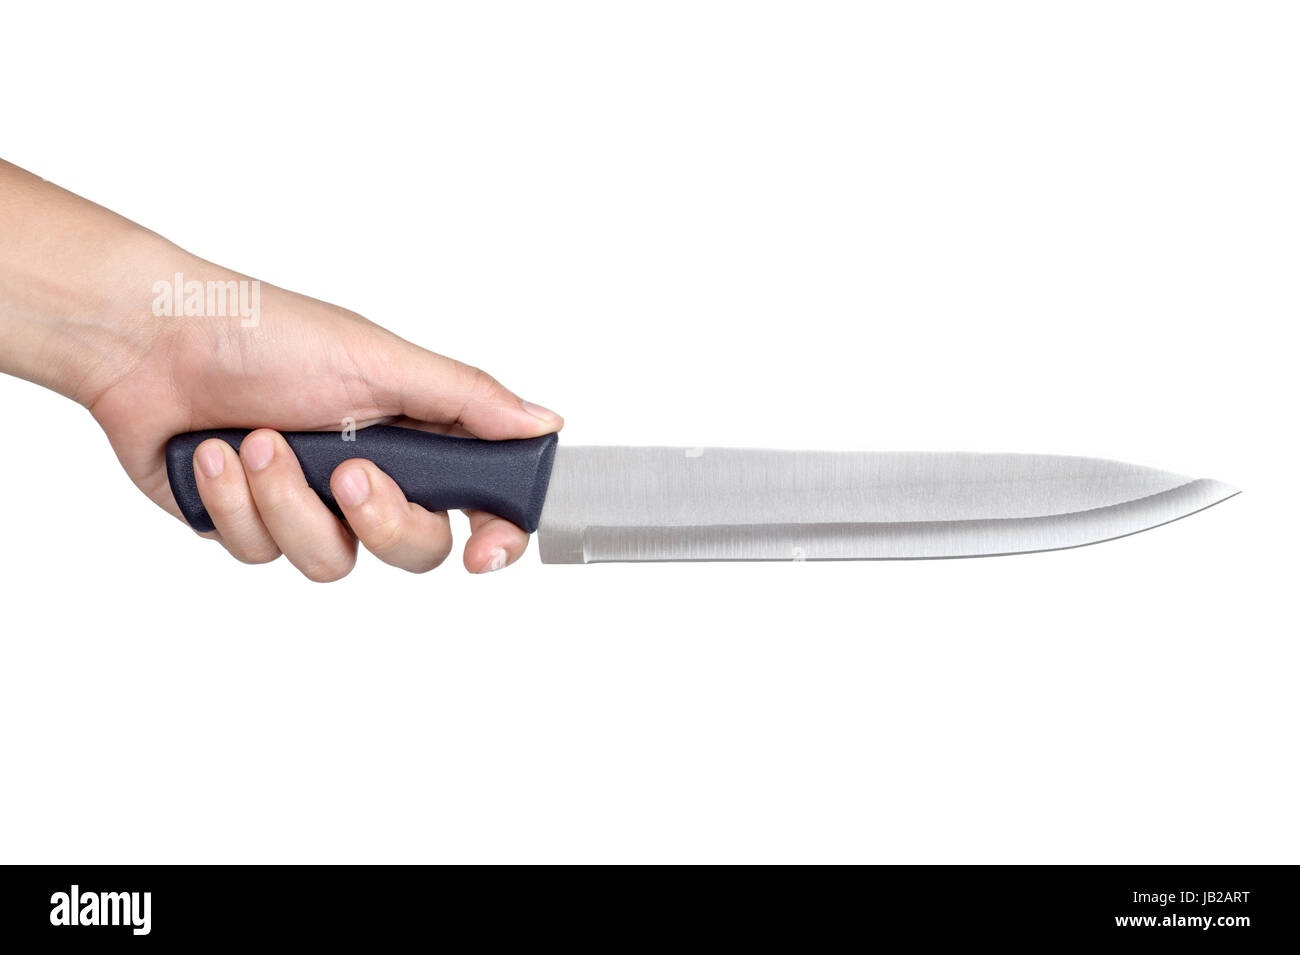knife: (165, 428, 1241, 568)
